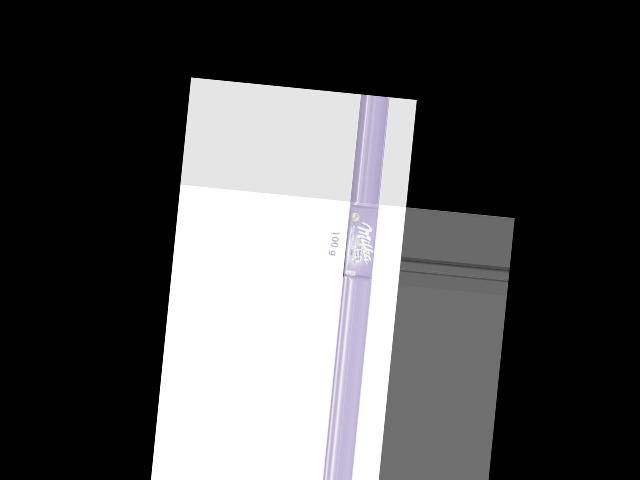chocolate: (337, 203, 379, 282)
